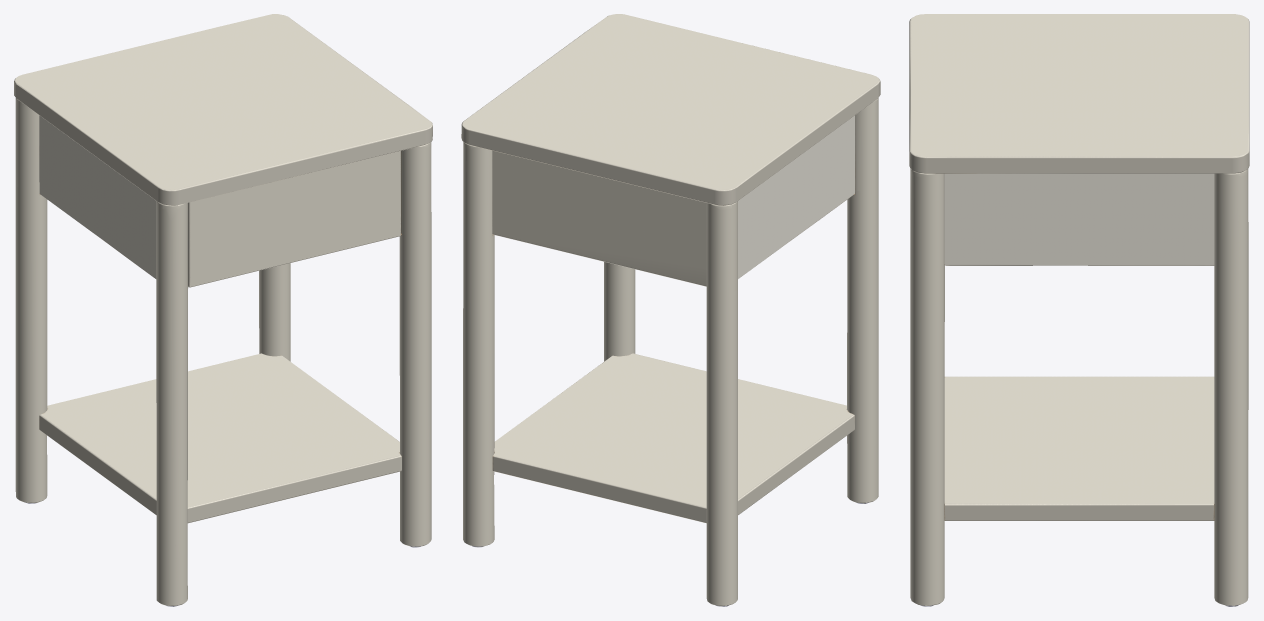
Rendered from tonstad_nightstand_off_white.glb.
3 views of the same model, side by side, from view 1: azimuth 30°, elevation 25°; view 2: azimuth 150°, elevation 25°; view 3: azimuth 270°, elevation 25° (orthographic). The views are drawn at different scales.
Parts seen in each view (by area): view 1: ASY_ART_80510007_S01_NV01, ASY_LPT01_80510007_S01_NV01; view 2: ASY_ART_80510007_S01_NV01; view 3: ASY_ART_80510007_S01_NV01.
Boxes of the visible parts, left/top/right/bottom form: ASY_ART_80510007_S01_NV01: left=14, top=14, right=432, bottom=606; ASY_LPT01_80510007_S01_NV01: left=188, top=151, right=400, bottom=287; ASY_ART_80510007_S01_NV01: left=461, top=14, right=880, bottom=606; ASY_ART_80510007_S01_NV01: left=909, top=14, right=1249, bottom=606.
Size of the model in its own units: 0.401 by 0.5901 by 0.401.
Materials: 2 (2 with a texture image).
